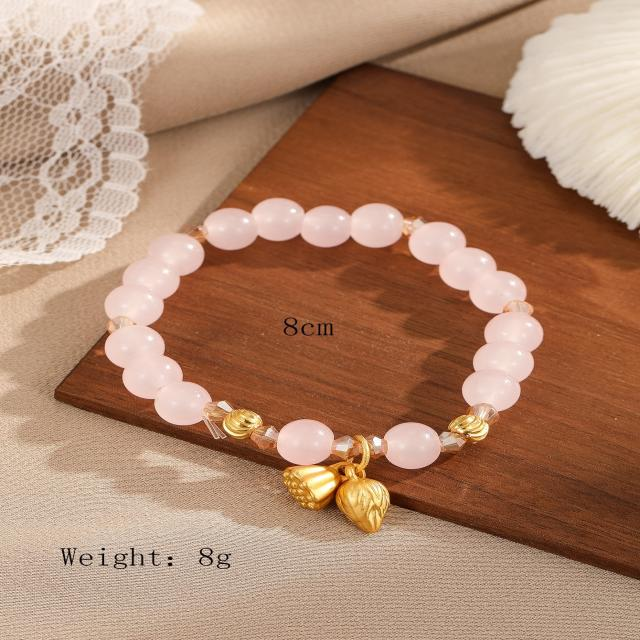bracelet: (67, 121, 628, 589)
